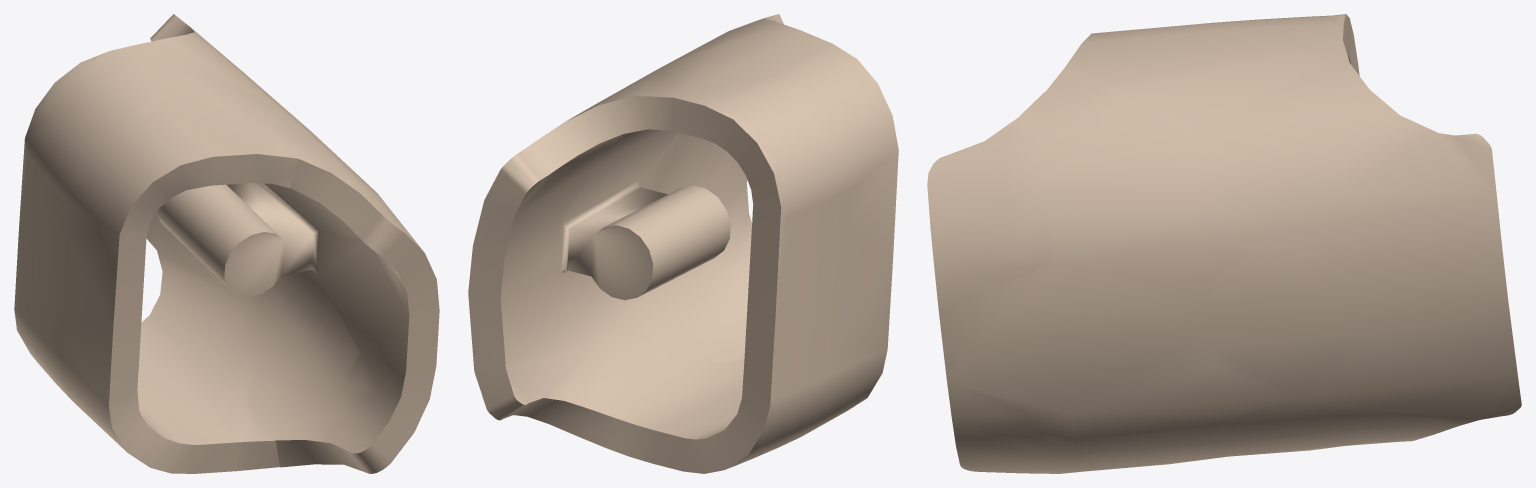
The model's file is l_hand_I_R_0.obj.
3 views of the same model, side by side, from view 1: azimuth 30°, elevation 25°; view 2: azimuth 150°, elevation 25°; view 3: azimuth 270°, elevation 25° (orthographic). The views are drawn at different scales.
Size of the model in its own units: 17.48 by 23.38 by 30.42.
